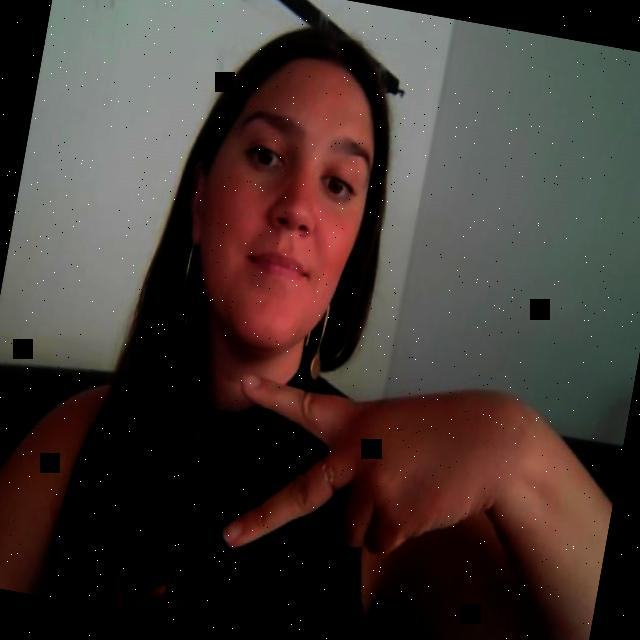Scissors: (232, 340, 556, 609)
